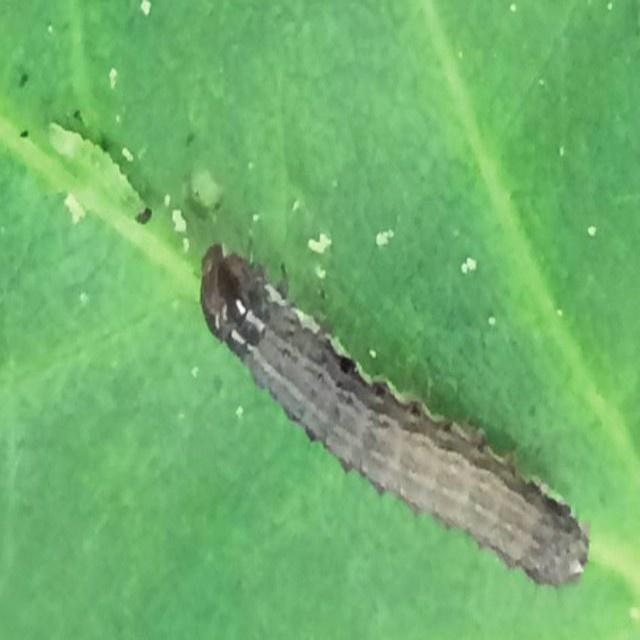gusano_cogollero: (198, 238, 590, 593)
